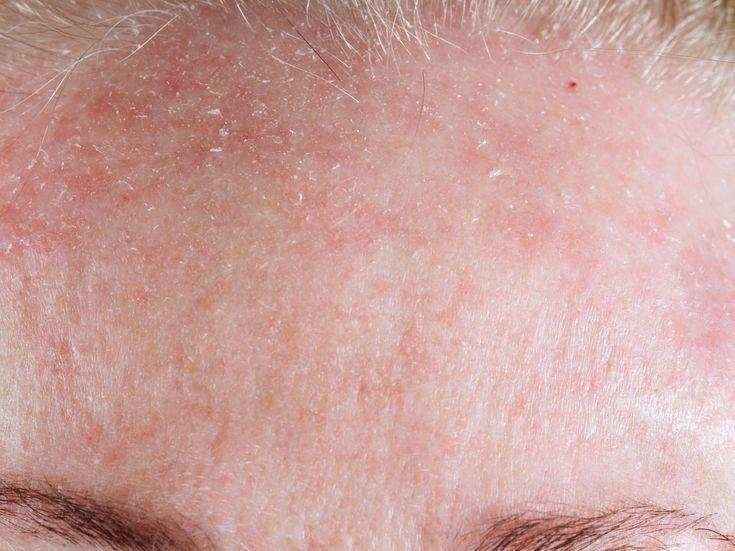Dry-Skin: (371, 120, 441, 241), (187, 76, 284, 154), (507, 167, 601, 239), (97, 281, 194, 341), (249, 210, 349, 263), (30, 341, 74, 411), (124, 204, 197, 240), (43, 189, 81, 256), (89, 106, 151, 143), (19, 93, 67, 130)
